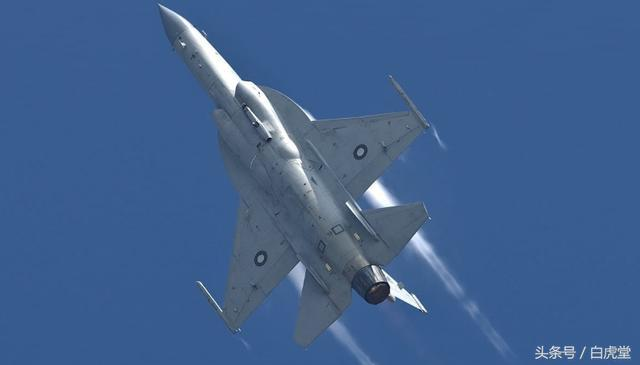airplane: (152, 1, 447, 345)
